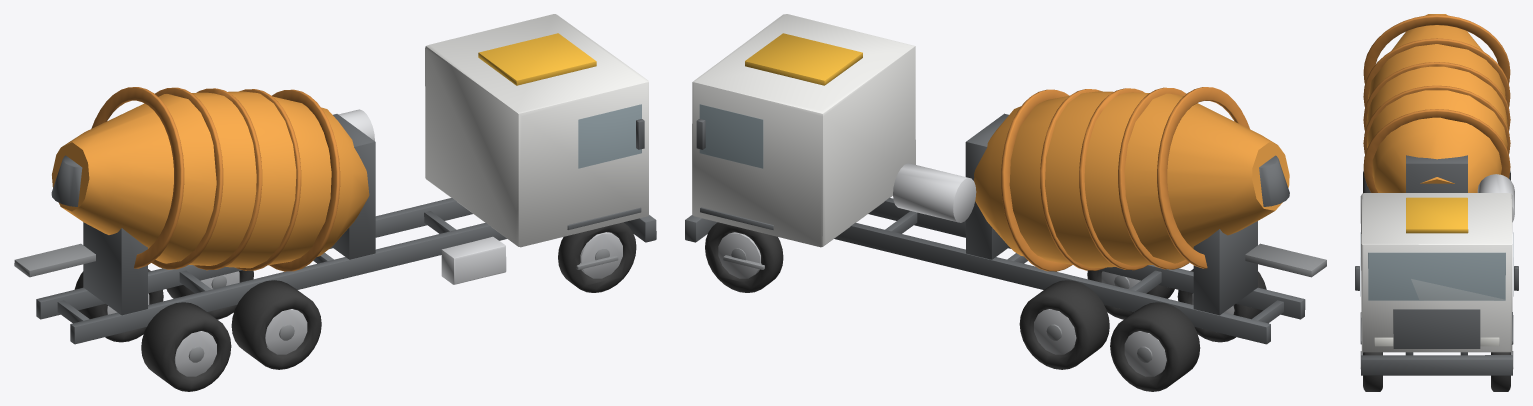
File: EQP-CON-005_lod1.glb
3 views of the same model, side by side, from view 1: azimuth 30°, elevation 25°; view 2: azimuth 150°, elevation 25°; view 3: azimuth 270°, elevation 25° (orthographic). The views are drawn at different scales.
Parts seen in each view (by area): view 1: EQP-CON-005_cab, EQP-CON-005_tambor, EQP-CON-005_chassi_e, EQP-CON-005_roda2_pneu, EQP-CON-005_roda4_pneu, EQP-CON-005_suporte_t, EQP-CON-005_chassi_d, EQP-CON-005_luzes, EQP-CON-005_aleta4, EQP-CON-005_janela-1, EQP-CON-005_roda0_pneu, EQP-CON-005_suporte_f (+13 smaller); view 2: EQP-CON-005_cab, EQP-CON-005_tambor, EQP-CON-005_chassi_d, EQP-CON-005_roda5_pneu, EQP-CON-005_roda3_pneu, EQP-CON-005_suporte_t, EQP-CON-005_luzes, EQP-CON-005_tanque_agua, EQP-CON-005_chassi_e, EQP-CON-005_aleta4, EQP-CON-005_janela1, EQP-CON-005_roda1_pneu (+13 smaller); view 3: EQP-CON-005_cab, EQP-CON-005_tambor, EQP-CON-005_parabrisa, EQP-CON-005_grade, EQP-CON-005_parachoque, EQP-CON-005_luzes, EQP-CON-005_aleta4, EQP-CON-005_aleta0, EQP-CON-005_suporte_f, EQP-CON-005_aleta3, EQP-CON-005_aleta2, EQP-CON-005_aleta1 (+5 smaller).
Part boxes in pixels (x1,y1,x2,y2): EQP-CON-005_cab: (425,14,648,247); EQP-CON-005_tambor: (52,91,369,268); EQP-CON-005_chassi_e: (70,222,506,344); EQP-CON-005_roda2_pneu: (231,280,321,369); EQP-CON-005_roda4_pneu: (141,302,231,391); EQP-CON-005_suporte_t: (83,222,147,315); EQP-CON-005_chassi_d: (36,198,472,319); EQP-CON-005_luzes: (478,33,596,85); EQP-CON-005_aleta4: (91,87,184,268); EQP-CON-005_janela-1: (578,104,641,168); EQP-CON-005_roda0_pneu: (558,222,636,292); EQP-CON-005_suporte_f: (332,114,375,259); EQP-CON-005_cab: (692,14,915,247); EQP-CON-005_tambor: (974,91,1289,268); EQP-CON-005_chassi_d: (834,222,1270,344); EQP-CON-005_roda5_pneu: (1110,302,1200,391); EQP-CON-005_roda3_pneu: (1019,280,1109,369); EQP-CON-005_suporte_t: (1193,221,1257,315); EQP-CON-005_luzes: (745,33,862,85); EQP-CON-005_tanque_agua: (893,163,976,222); EQP-CON-005_chassi_e: (868,197,1305,319); EQP-CON-005_aleta4: (1157,87,1249,268); EQP-CON-005_janela1: (699,104,763,168); EQP-CON-005_roda1_pneu: (705,222,783,292); EQP-CON-005_cab: (1360,193,1512,352); EQP-CON-005_tambor: (1366,14,1507,192); EQP-CON-005_parabrisa: (1368,252,1505,300); EQP-CON-005_grade: (1393,309,1480,348); EQP-CON-005_parachoque: (1361,355,1512,375); EQP-CON-005_luzes: (1406,197,1468,233); EQP-CON-005_aleta4: (1363,15,1510,83); EQP-CON-005_aleta0: (1363,109,1510,192); EQP-CON-005_suporte_f: (1406,155,1467,192); EQP-CON-005_aleta3: (1363,38,1510,107); EQP-CON-005_aleta2: (1363,62,1510,131); EQP-CON-005_aleta1: (1363,85,1510,154).
Size of the model in its own units: 8.78 by 3.79 by 2.63.
